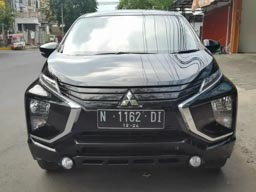plat: (96, 109, 164, 123)
